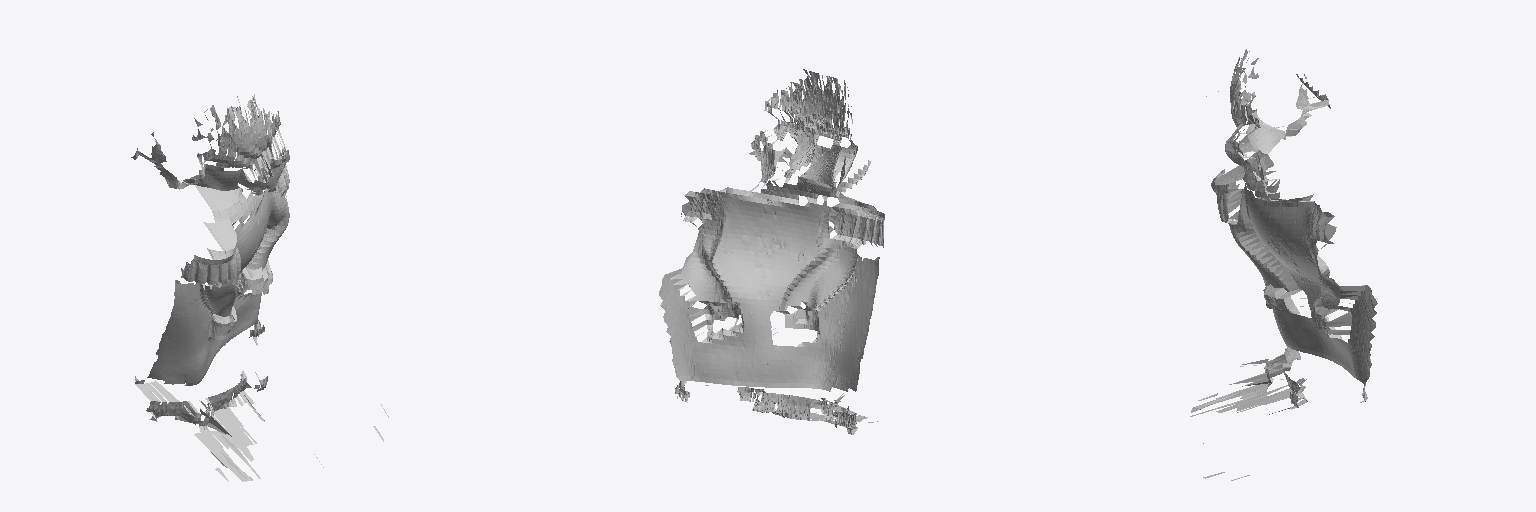
File: frame-S00F24.obj
3 views of the same model, side by side, from view 1: azimuth 30°, elevation 25°; view 2: azimuth 150°, elevation 25°; view 3: azimuth 270°, elevation 25° (orthographic).
Size of the model in its own units: 63.84 by 100 by 48.65.